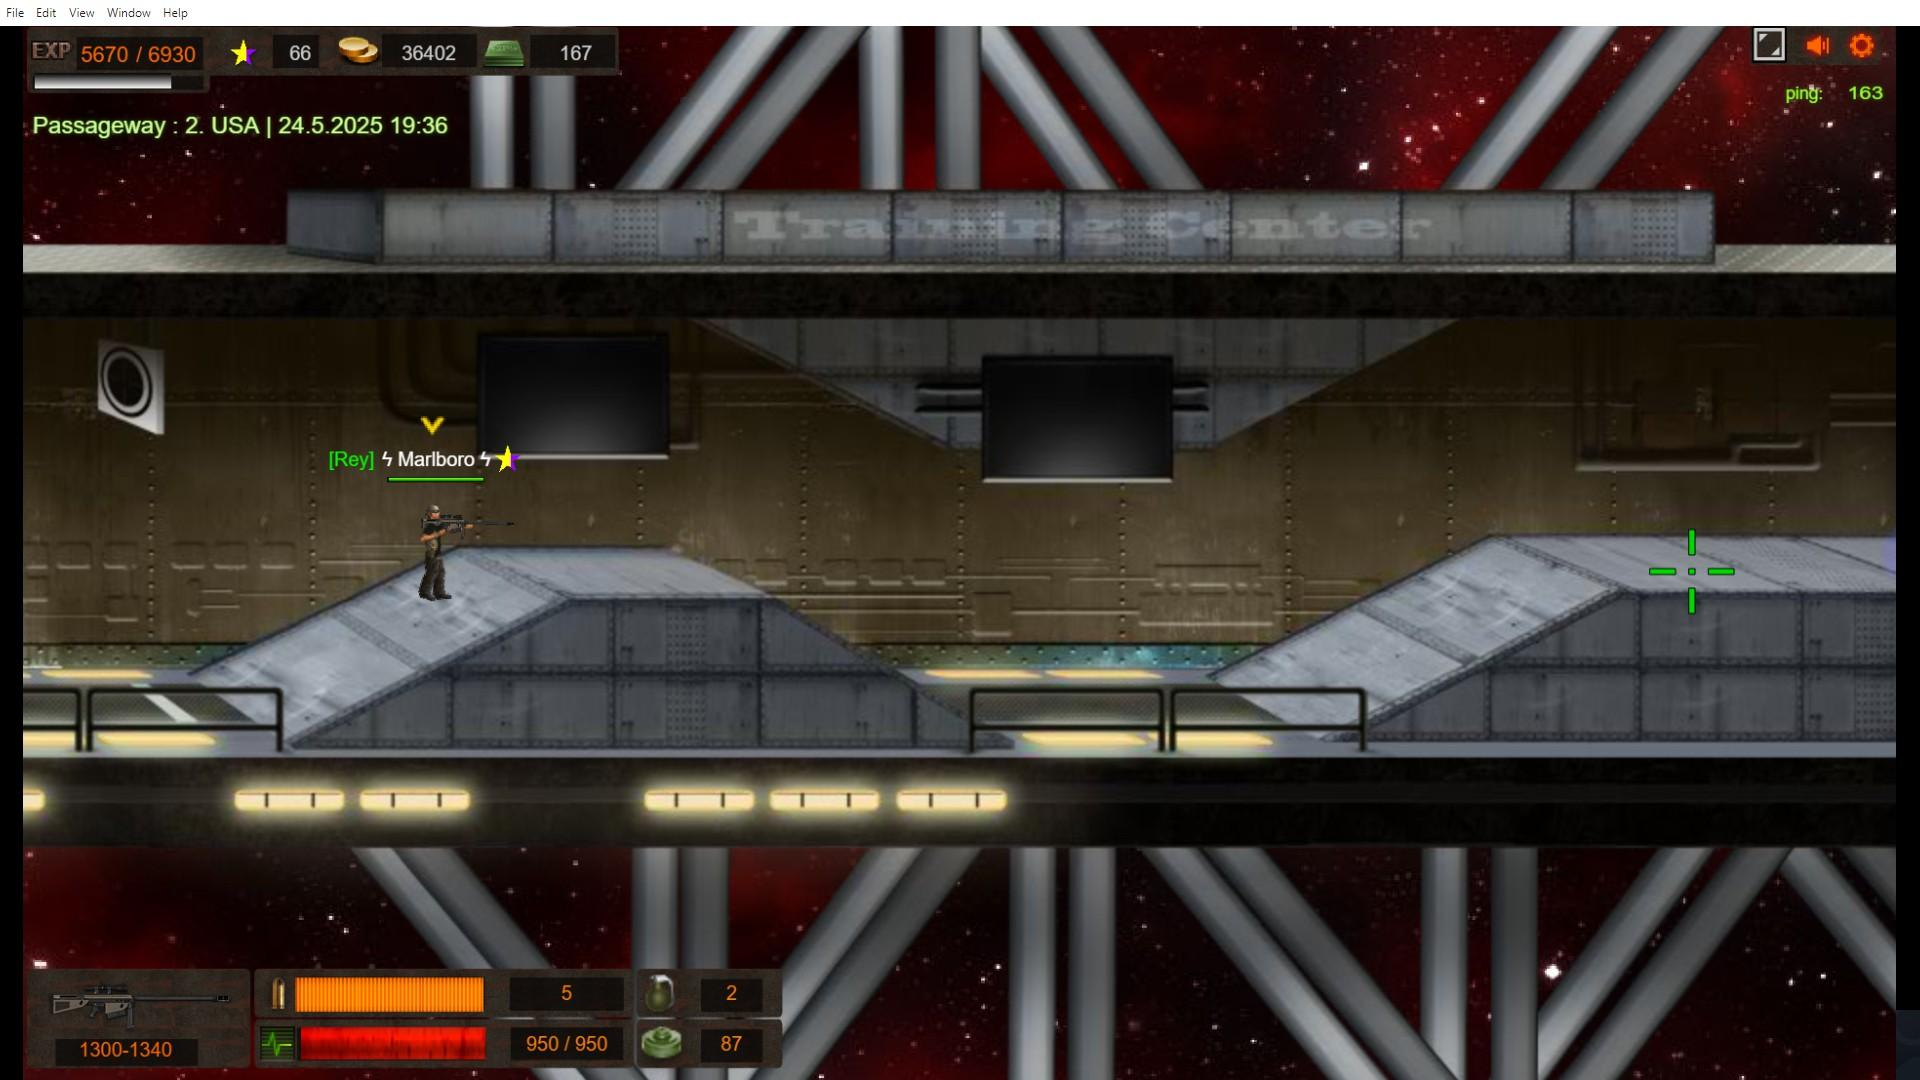enemy: (419, 508, 454, 601)
